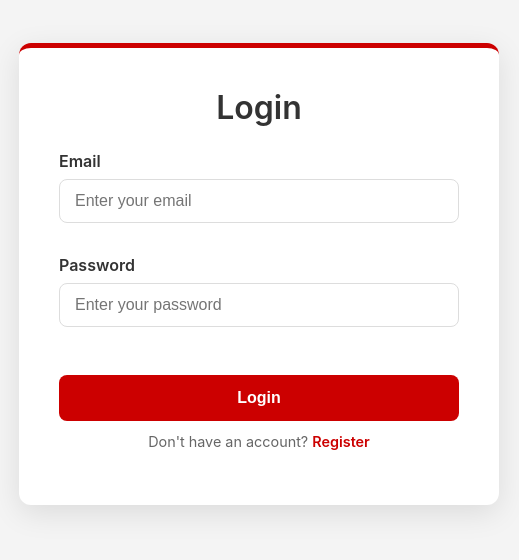
Test: Login Component - Integration Tests › shows appropriate error and does not navigate on failure
Type "bad@ncsu.edu" into the field labelled "Email". click: {"x": 259, "y": 201}
box: [59, 179, 459, 223]
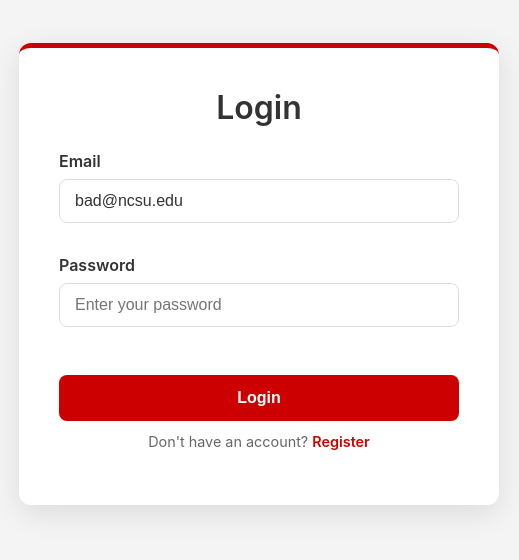
Type "wrong" into the password field labelled "Password". click: {"x": 259, "y": 305}
box: [59, 283, 459, 327]
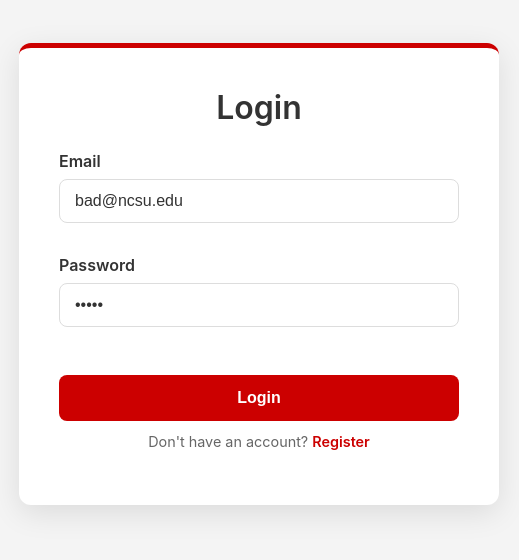
Click the button "Login". click: {"x": 259, "y": 398}
box: [59, 375, 459, 421]
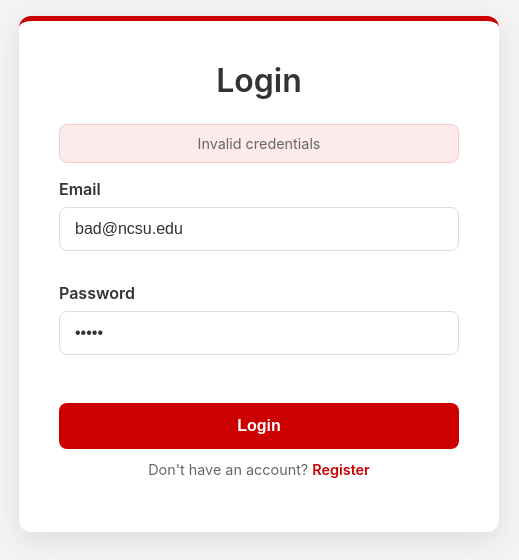
Now the text "Invalid credentials" is shown, box [59, 124, 459, 163]
